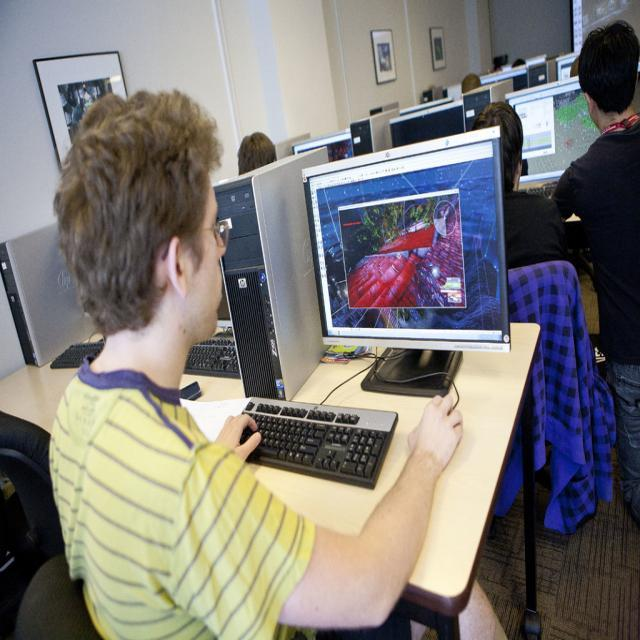others: (288, 136, 532, 358)
